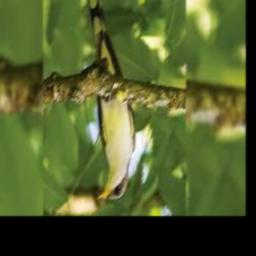Cuckoo: (86, 0, 135, 201)
